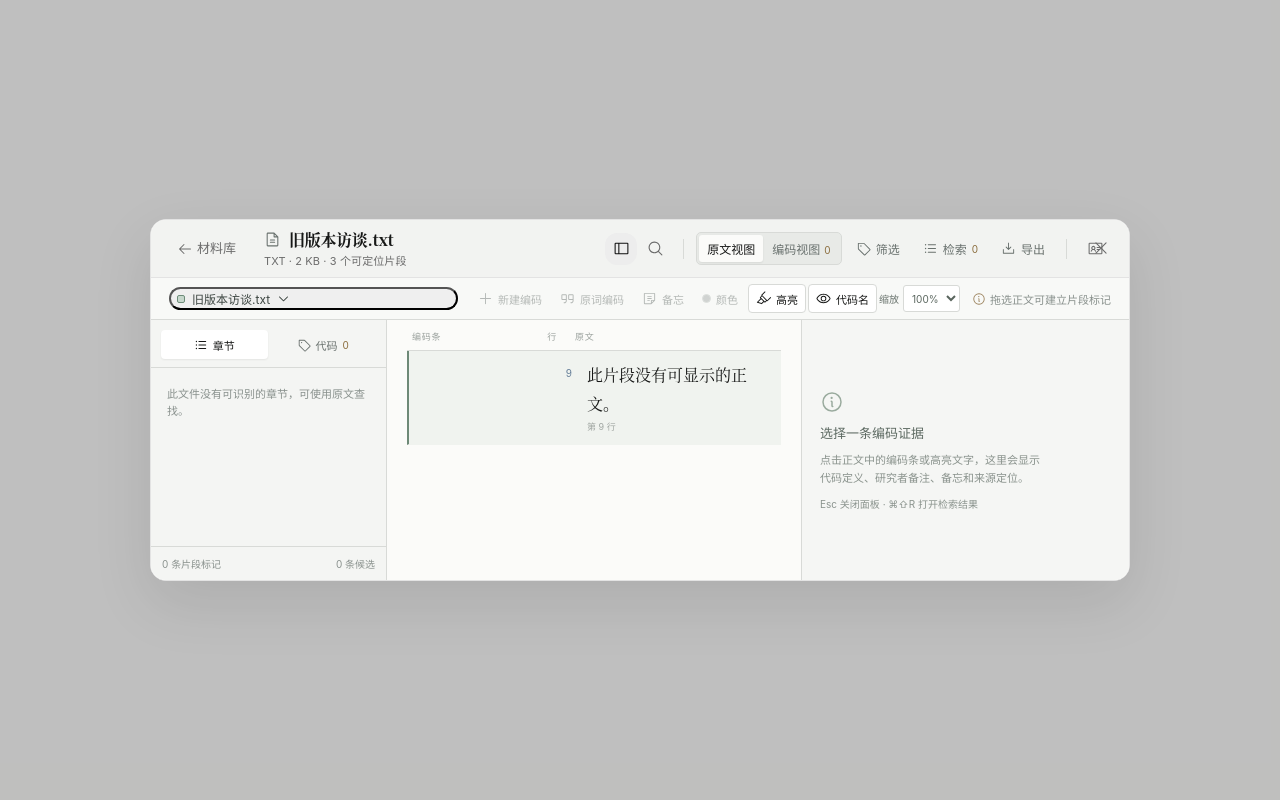
Scenario: ResearchMaterialsPanel › opens a historical citation using its parse id for detail and exact segment reads
Step 1. Click the text "此片段没有可显示的正文。" → (667, 375), box [587,361,767,422]
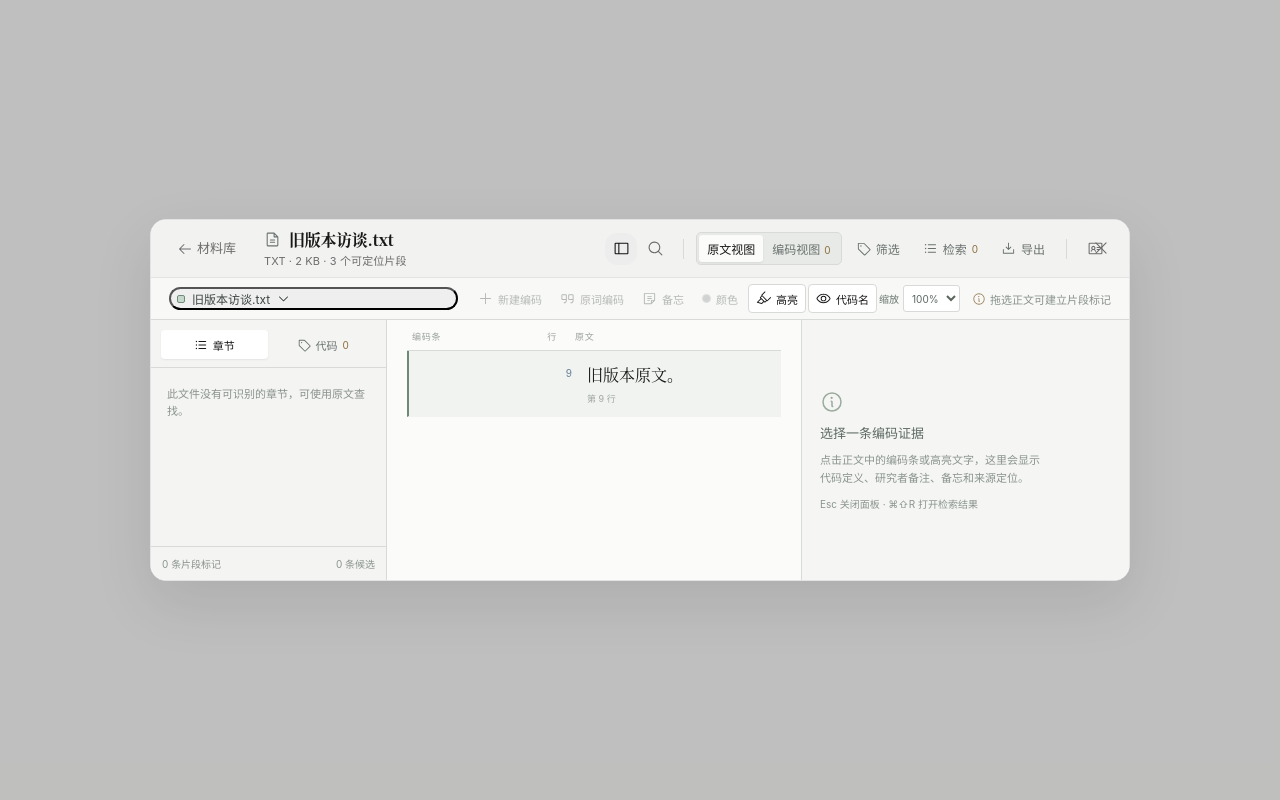
Check: the text "旧版本原文。" is shown, box [587,363,683,386]
